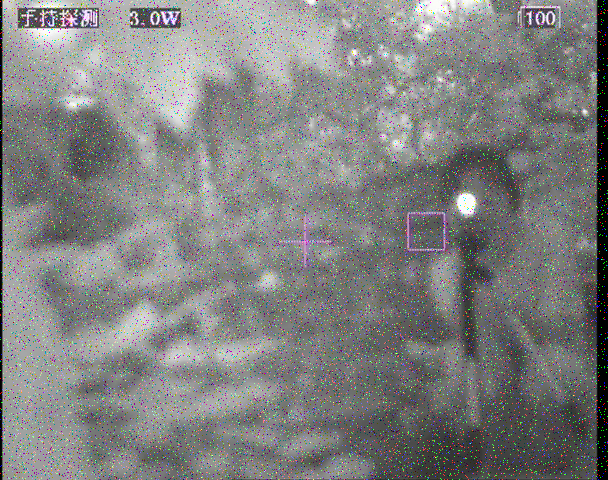my: (454, 191, 477, 216)
